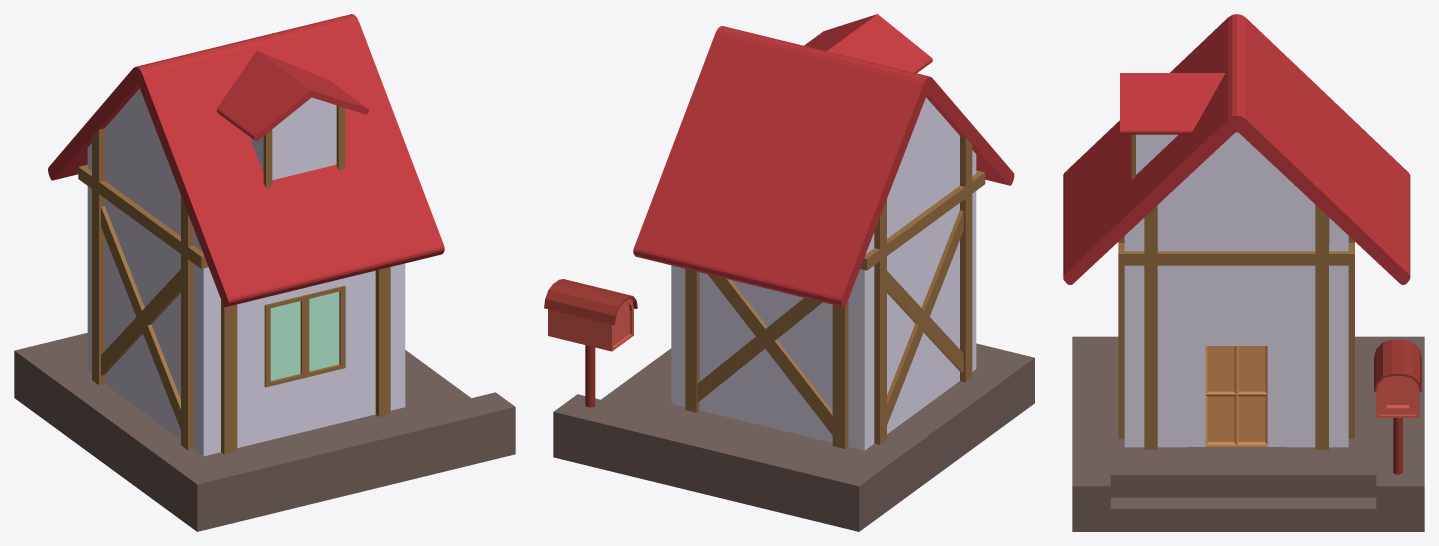
The model's file is house1.fbx.
The picture shows the model from 3 angles, left to right: view 1: azimuth 30°, elevation 25°; view 2: azimuth 150°, elevation 25°; view 3: azimuth 270°, elevation 25°; orthographic projection. The views are drawn at different scales.
Visible parts, largest first — view 1: roof, dodai, wall, frame, triangle_roof, window, triangle, cross, window_frame, triangle_frame; view 2: roof, dodai, wall, frame, cross, triangle_roof, post, post_head, post_poll; view 3: wall, dodai, roof, frame, door, triangle_roof, post_head, post, triangle, post_poll.
Boxes of the visible parts, left/top/right/bottom form: roof: left=48, top=14, right=444, bottom=307; dodai: left=14, top=333, right=515, bottom=531; wall: left=87, top=88, right=405, bottom=456; frame: left=78, top=128, right=390, bottom=454; triangle_roof: left=217, top=50, right=369, bottom=141; window: left=270, top=291, right=339, bottom=380; triangle: left=250, top=97, right=336, bottom=180; cross: left=101, top=206, right=180, bottom=429; window_frame: left=264, top=285, right=345, bottom=387; triangle_frame: left=263, top=105, right=345, bottom=188; roof: left=633, top=26, right=1014, bottom=307; dodai: left=553, top=343, right=1034, bottom=531; wall: left=671, top=97, right=976, bottom=450; frame: left=685, top=136, right=985, bottom=448; cross: left=697, top=210, right=963, bottom=434; triangle_roof: left=804, top=14, right=932, bottom=73; post: left=548, top=298, right=633, bottom=351; post_head: left=544, top=279, right=637, bottom=325; post_poll: left=585, top=345, right=595, bottom=407; wall: left=1124, top=132, right=1348, bottom=447; dodai: left=1072, top=336, right=1424, bottom=531; roof: left=1063, top=14, right=1410, bottom=284; frame: left=1118, top=205, right=1354, bottom=449; door: left=1205, top=346, right=1267, bottom=445; triangle_roof: left=1120, top=73, right=1225, bottom=134; post_head: left=1374, top=339, right=1421, bottom=391; post: left=1376, top=376, right=1419, bottom=417; triangle: left=1136, top=134, right=1178, bottom=174; post_poll: left=1393, top=418, right=1402, bottom=474.
Bounding box in the file's own units: 930 × 1066 × 918.
